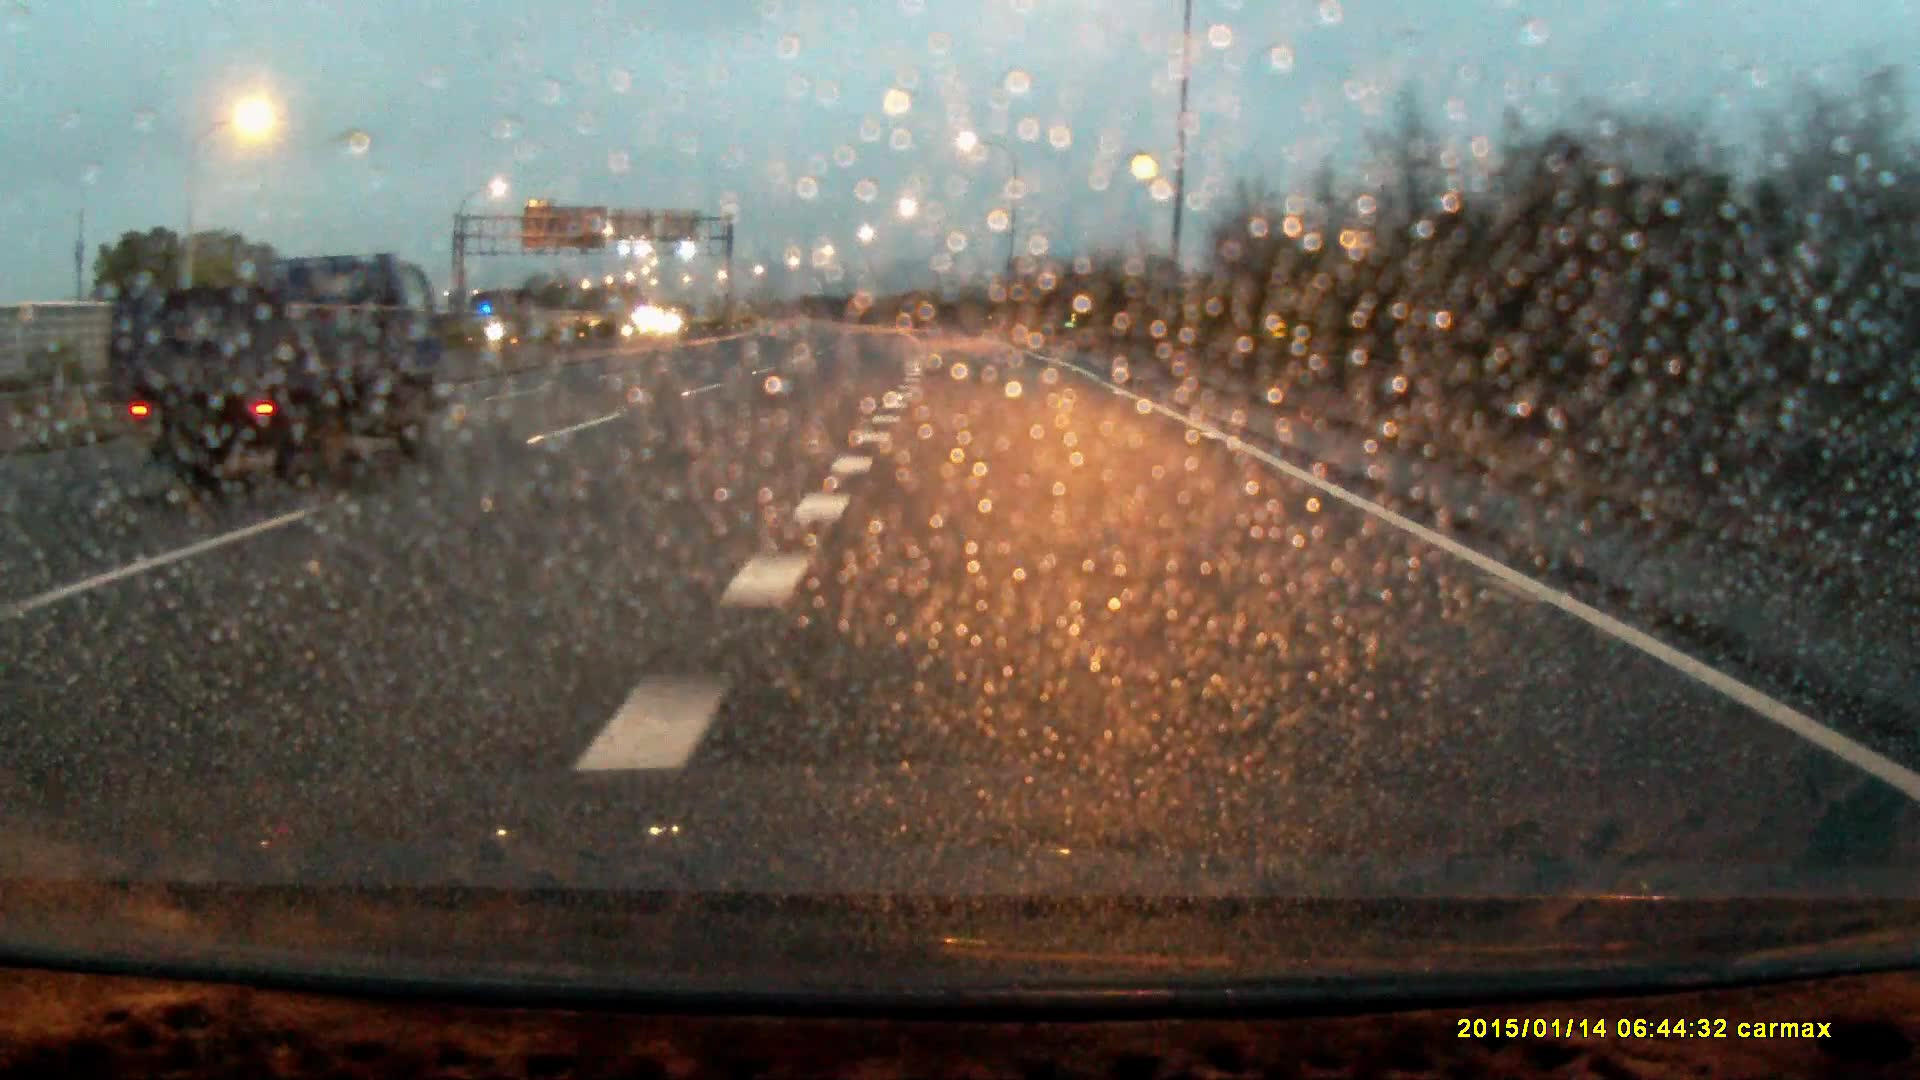vehicle: (127, 229, 430, 481)
